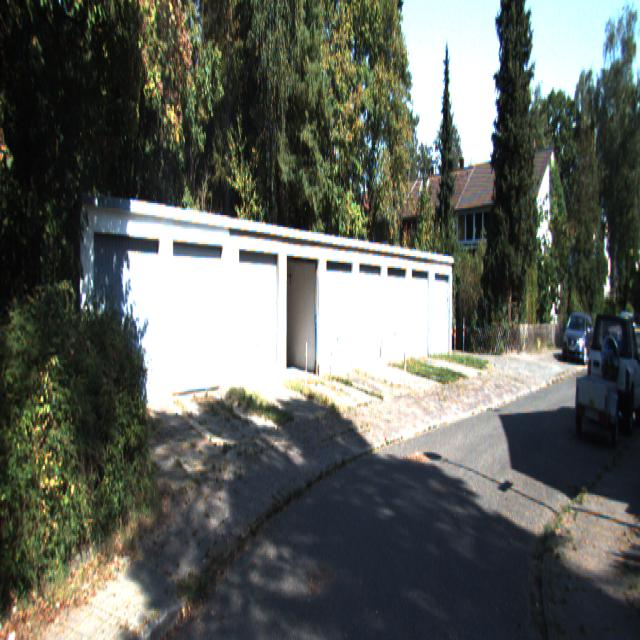Car: (587, 301, 639, 424), (575, 365, 619, 439), (562, 306, 595, 361)
